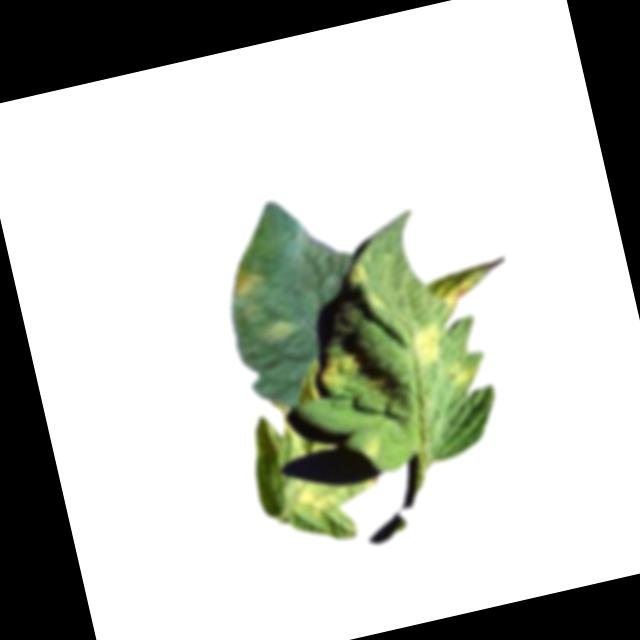Leaf_Mold: (426, 257, 508, 314), (286, 473, 339, 524), (312, 349, 362, 393), (405, 317, 446, 369), (223, 265, 269, 304), (254, 314, 302, 349), (439, 360, 487, 393)
